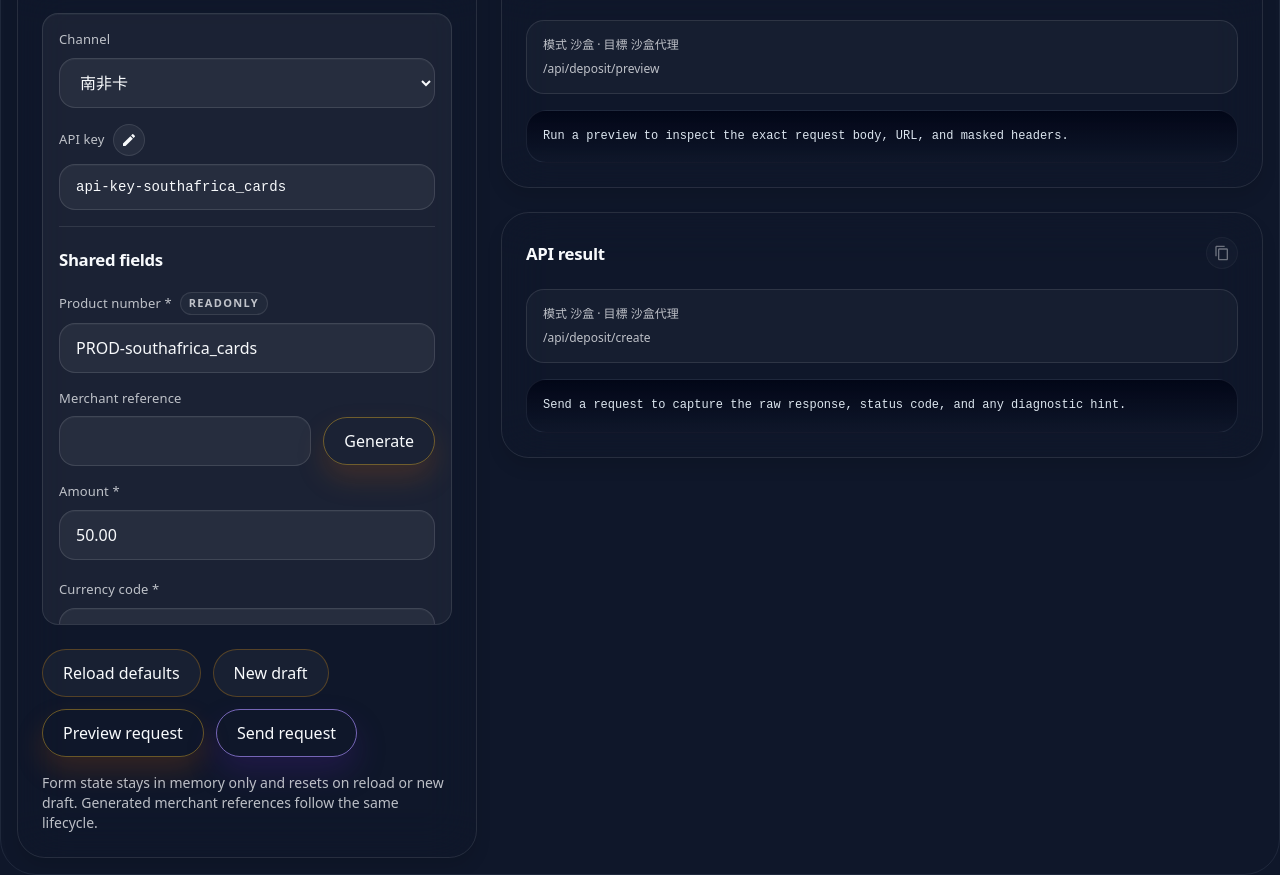
Test: DepositPage › submits create requests and shows the API result
(page scrolled)
Click the button "Send request". click: (286, 733)
box: top-left (216, 709), bottom-right (357, 757)
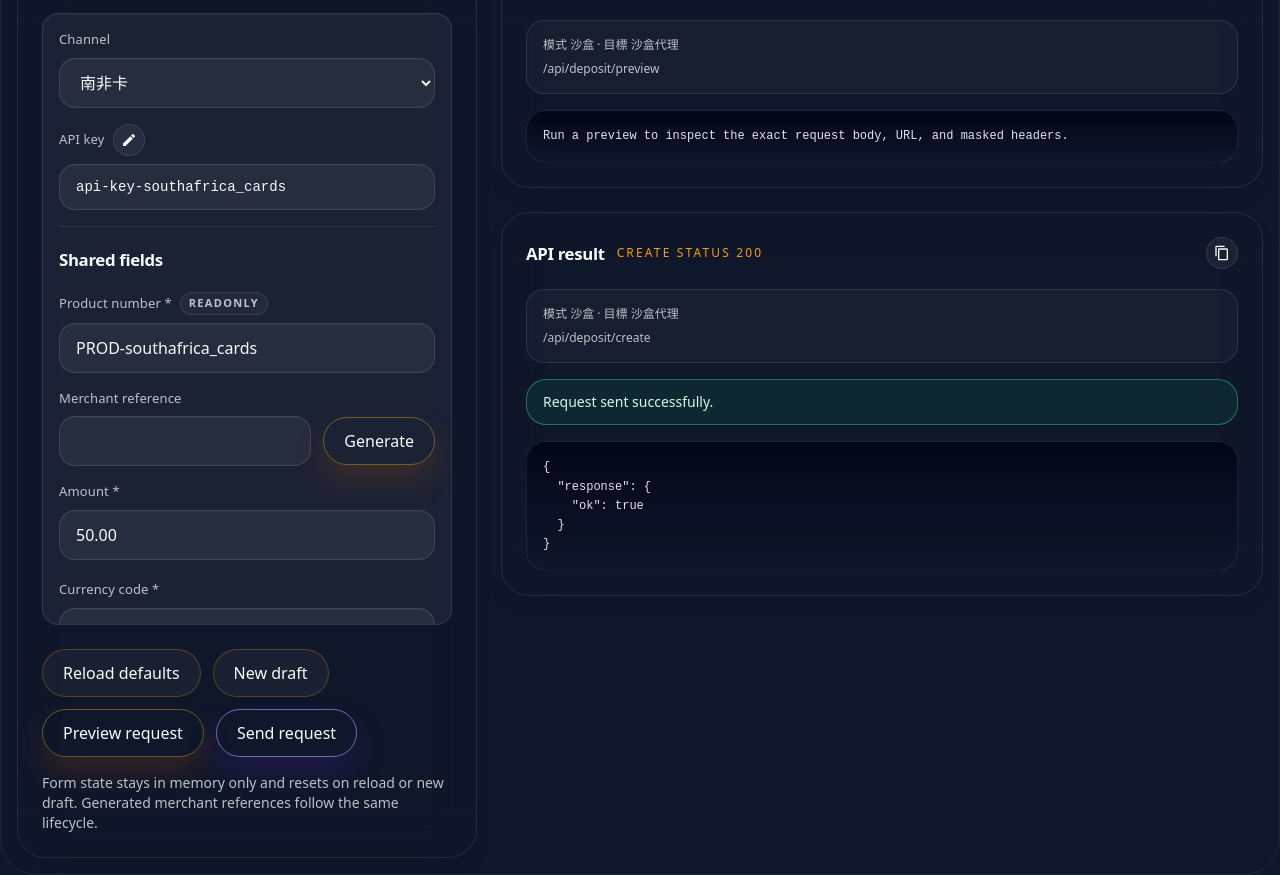
Expected: the text "模式 沙盒 · 目標 沙盒代理" below "Request preview" is shown, top-left (543, 36), bottom-right (679, 53)
Expected: the text "Request sent successfully." is shown, top-left (543, 392), bottom-right (713, 411)
Expected: the text "{ \"response\": { \"ok\": true } }" is shown, top-left (526, 441), bottom-right (1238, 571)
